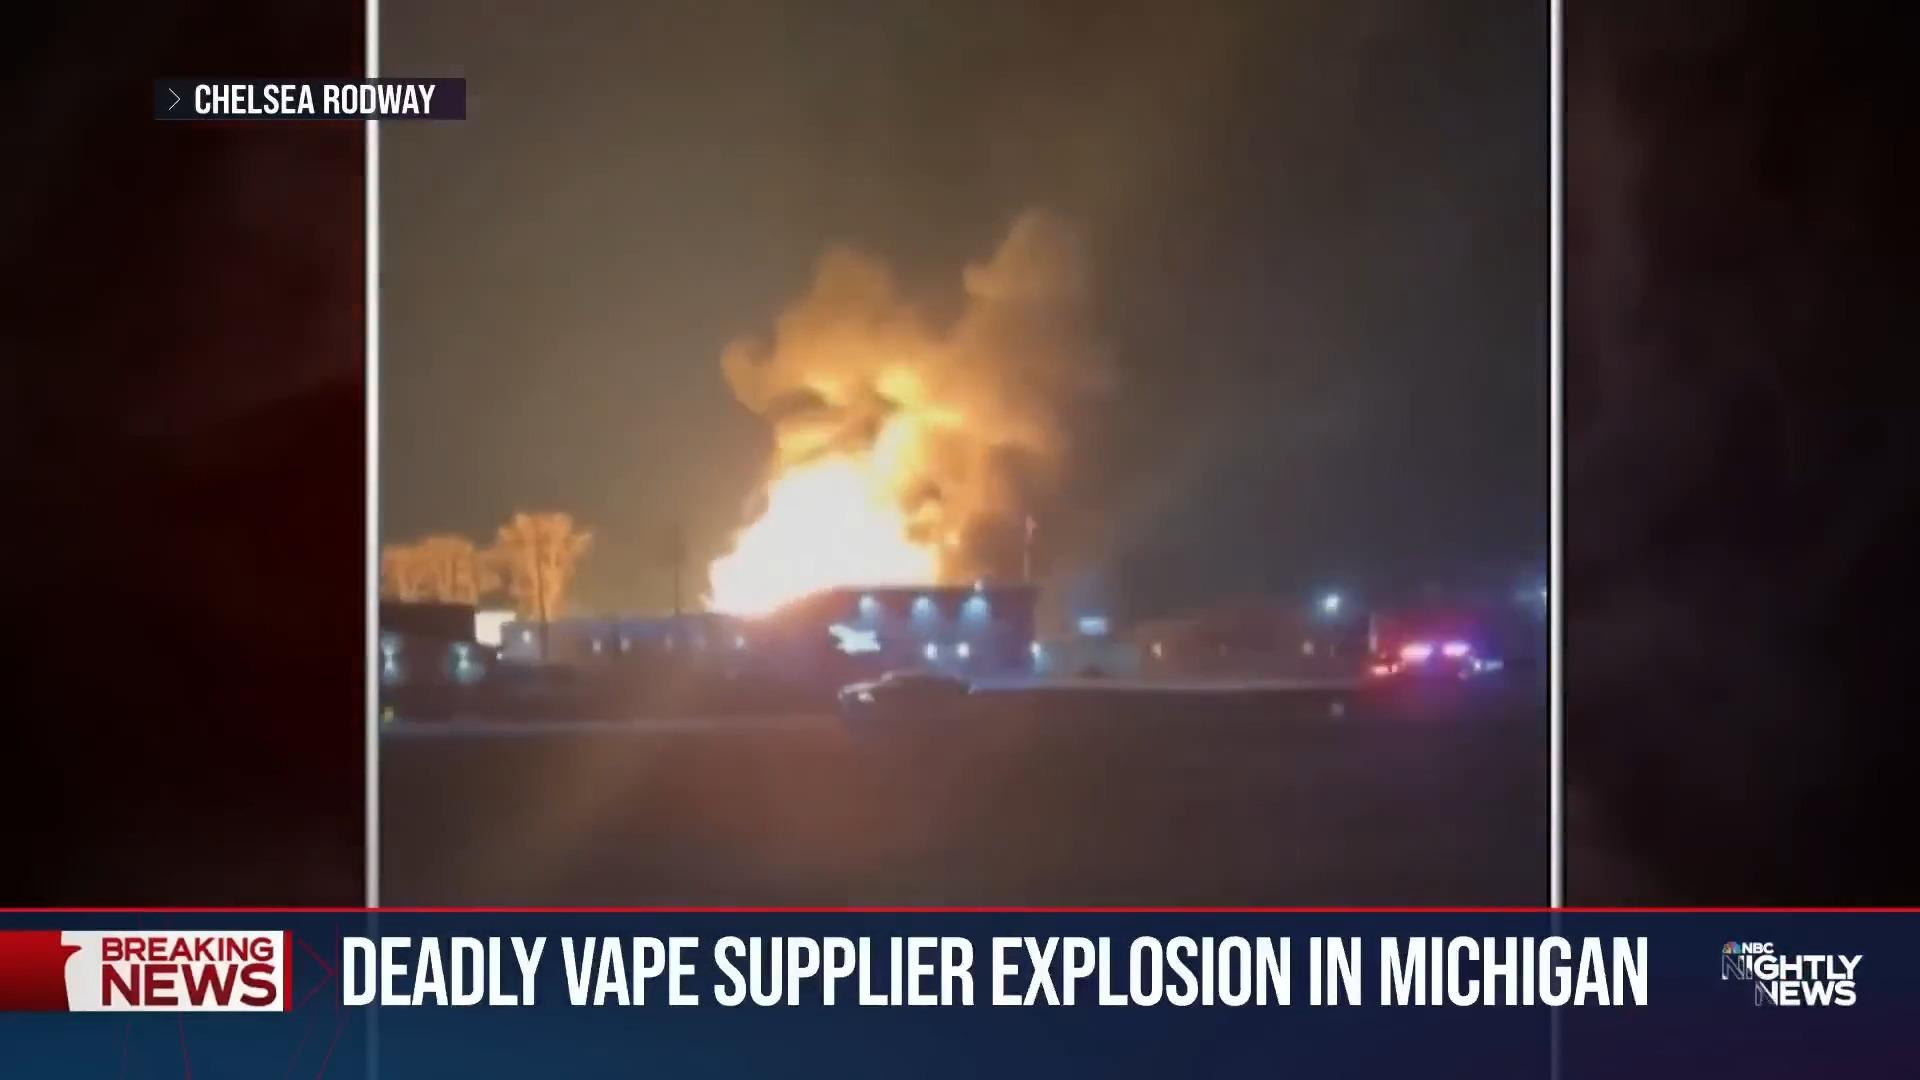fire: (721, 211, 1080, 673)
